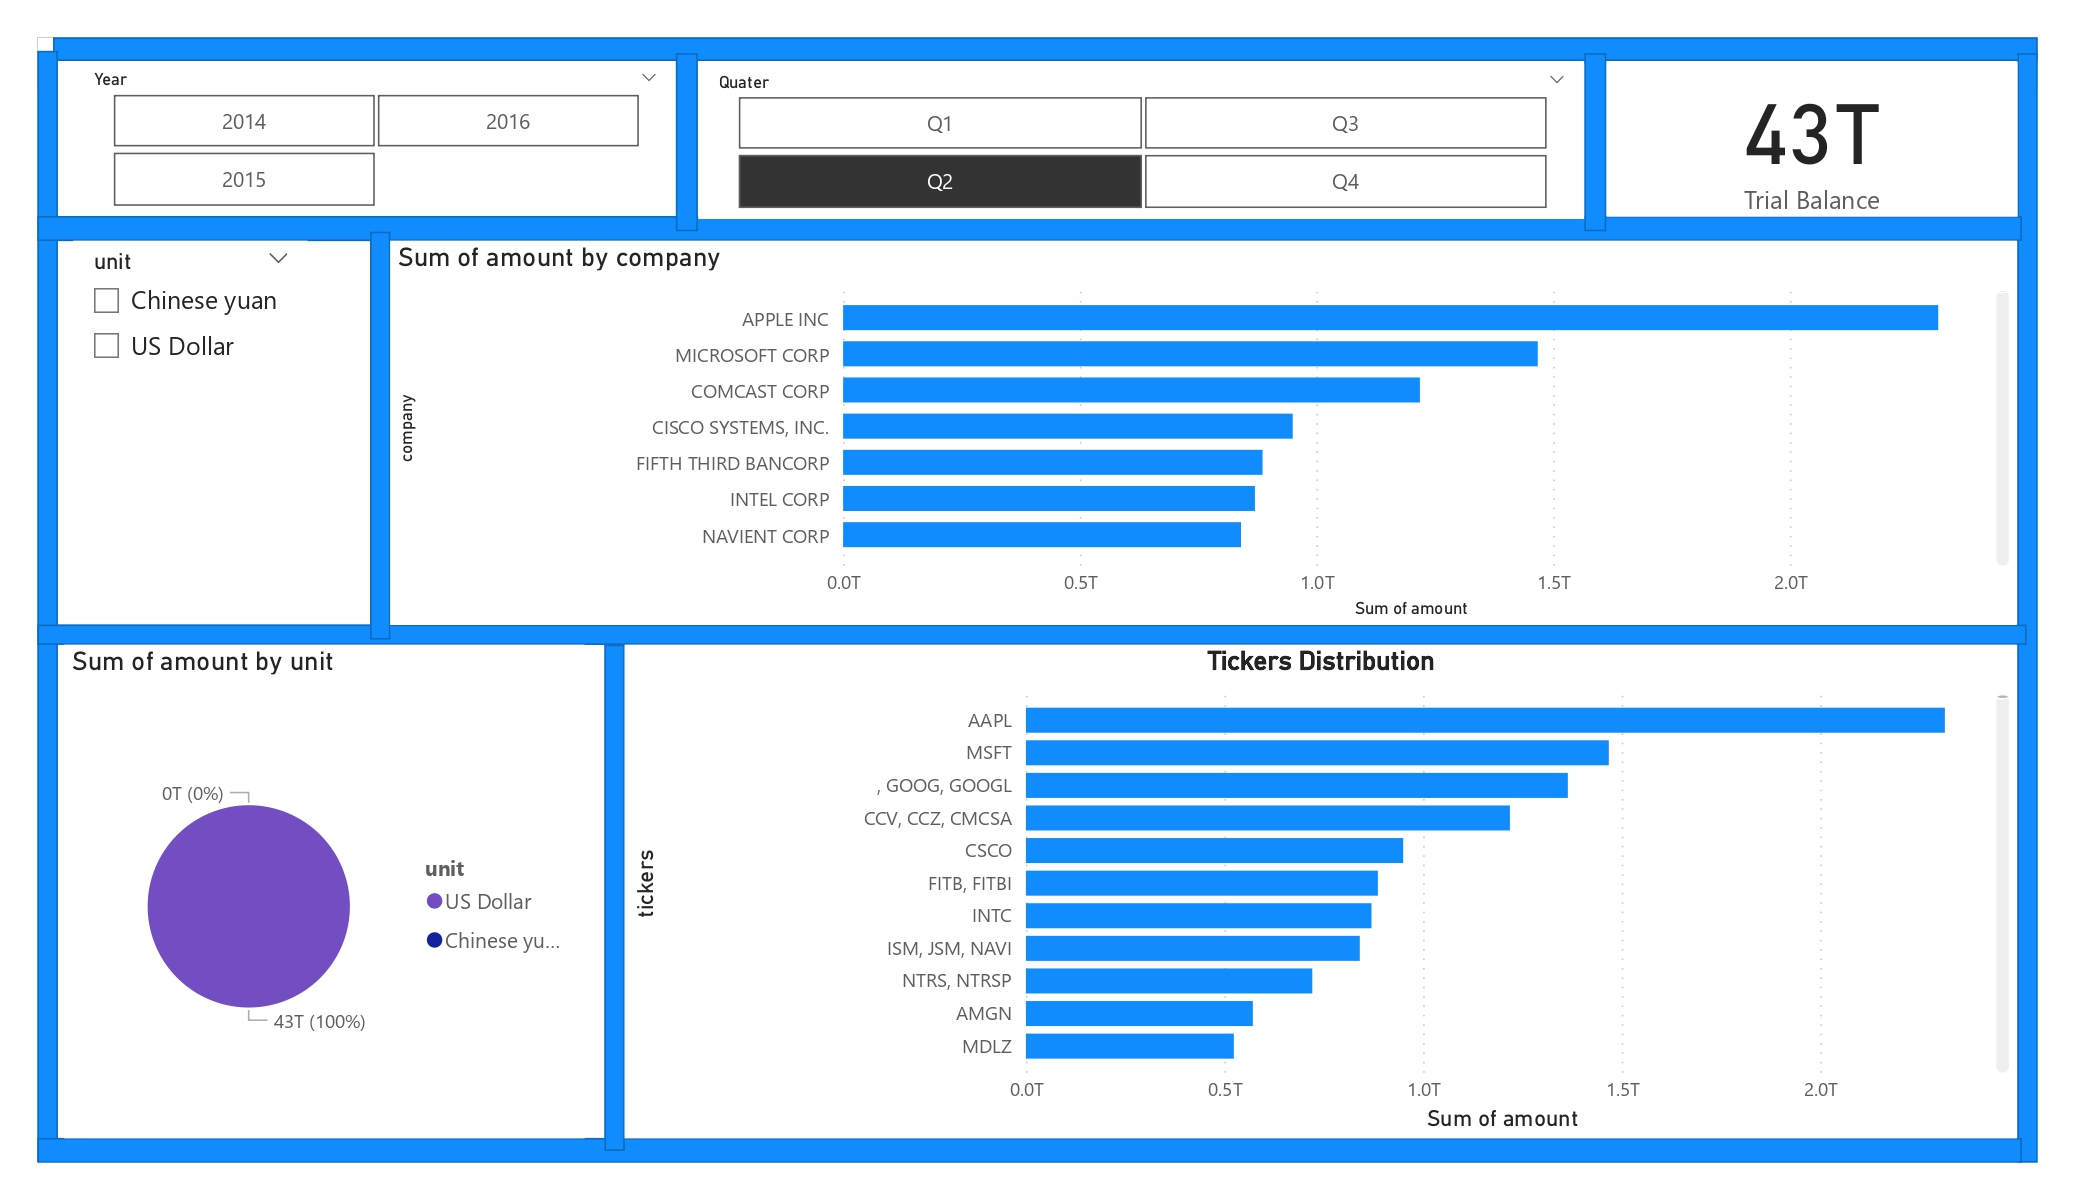

The dashboard page shown, as its layout file describes it:
{"tool":"powerbi","page":{"name":"Page 2","canvas":[1280,720],"ordinal":1},"visuals":[{"type":"shape","box":[10.1,0,1269.9,15.1],"z":0},{"type":"shape","box":[0,8.4,13.4,710.6],"z":1},{"type":"shape","box":[1267.1,10,12.9,710],"z":2},{"type":"shape","box":[0,704.3,1270,15.7],"z":3},{"type":"slicer","fields":{"Values":["fundamentals_dataset.Year"]},"box":[22.9,15.7,385.7,98.6],"z":4},{"type":"shape","box":[0,114.3,1270,15.7],"z":5},{"type":"slicer","fields":{"Values":["fundamentals_dataset.unit"]},"box":[22.9,130,150,234.3],"z":6},{"type":"shape","box":[362.9,388.6,12.9,324.3],"z":7},{"type":"shape","box":[0,375.7,1272.9,12.9],"z":8},{"type":"shape","box":[990,10,14.3,114.3],"z":9},{"type":"slicer","fields":{"Values":["fundamentals_dataset.Quater"]},"box":[422.9,17.1,567.1,98.6],"z":10},{"type":"shape","box":[408.6,10,14.3,114.3],"z":11},{"type":"pieChart","fields":{"Category":["fundamentals_dataset.unit"],"Y":["Sum(fundamentals_dataset.amount)"]},"box":[17.1,388.6,332.9,315.7],"z":12},{"type":"shape","box":[212.9,124.3,12.9,261.4],"z":13},{"type":"barChart","title":"Tickers  Distribution","fields":{"Category":["fundamentals_dataset.tickers"],"Y":["Sum(fundamentals_dataset.amount)"]},"box":[375.7,388.6,891.4,315.7],"z":14},{"type":"card","fields":{"Values":["fundamentals_dataset.Trial Balance"]},"box":[1004.3,15.7,262.9,98.6],"z":15},{"type":"barChart","fields":{"Category":["fundamentals_dataset.company"],"Y":["Sum(fundamentals_dataset.amount)"]},"box":[225.7,130,1041.4,245.7],"z":16}]}

Visuals, with their boxes in screenshot pixels (x1, y1, x2, y2):
shape: l=53, t=38, r=2038, b=61
shape: l=38, t=51, r=58, b=1161
shape: l=2017, t=53, r=2038, b=1162
shape: l=38, t=1138, r=2022, b=1162
slicer - fundamentals_dataset.Year: l=73, t=62, r=676, b=216
shape: l=38, t=216, r=2022, b=241
slicer - fundamentals_dataset.unit: l=73, t=241, r=308, b=607
shape: l=605, t=645, r=625, b=1151
shape: l=38, t=625, r=2026, b=645
shape: l=1584, t=53, r=1607, b=232
slicer - fundamentals_dataset.Quater: l=698, t=64, r=1584, b=218
shape: l=676, t=53, r=698, b=232
pieChart - fundamentals_dataset.unit x Sum(fundamentals_dataset.amount): l=64, t=645, r=584, b=1138
shape: l=370, t=232, r=390, b=640
"Tickers  Distribution" barChart: l=625, t=645, r=2017, b=1138
card - fundamentals_dataset.Trial Balance: l=1607, t=62, r=2017, b=216
barChart - fundamentals_dataset.company x Sum(fundamentals_dataset.amount): l=390, t=241, r=2017, b=625
